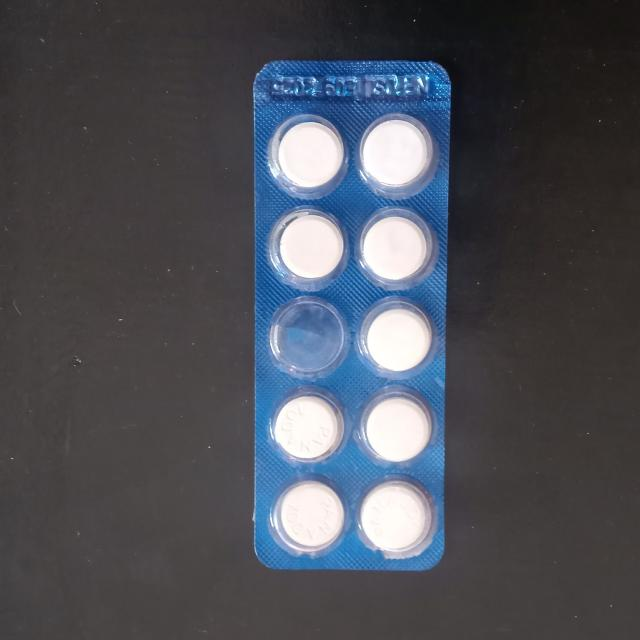defect: (261, 292, 357, 383)
